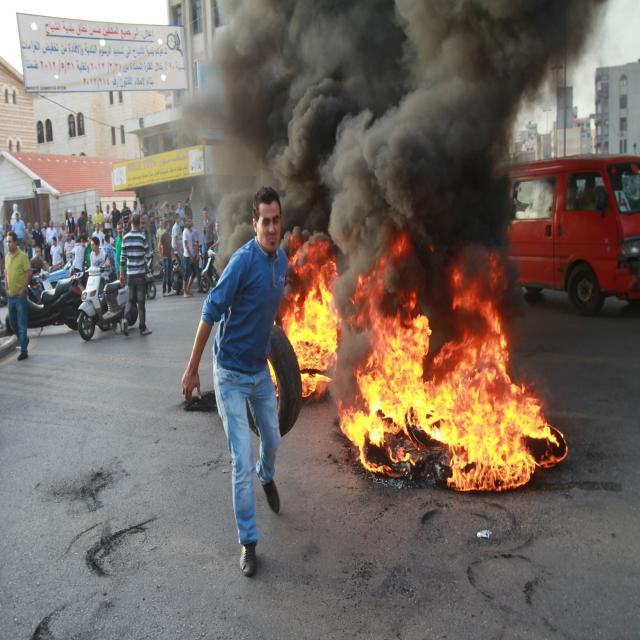fire: (340, 319, 559, 493), (281, 290, 337, 398), (352, 258, 417, 319), (452, 284, 498, 319)
